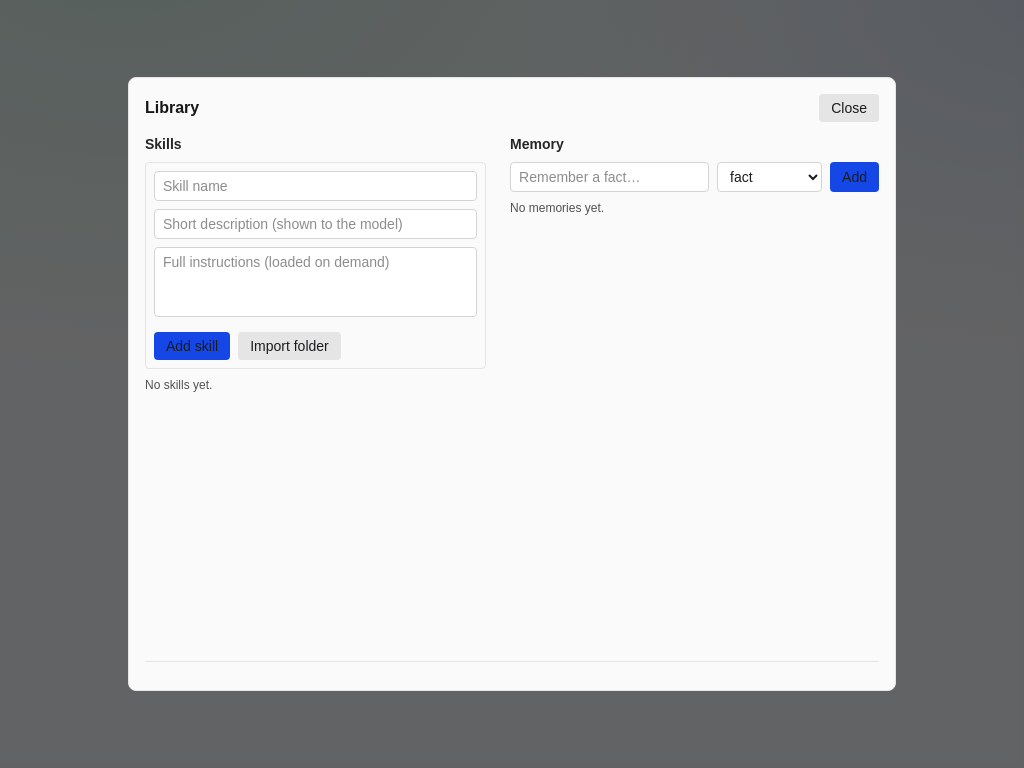
Test: LibraryPanel — Memory › adds a memory with the selected category and refreshes
Expected: the text "No memories yet." is shown, [510,201,604,215]
Type "drink water" into the field with placeholder "Remember a fact…" at point(610, 177), box [510,162,709,192]
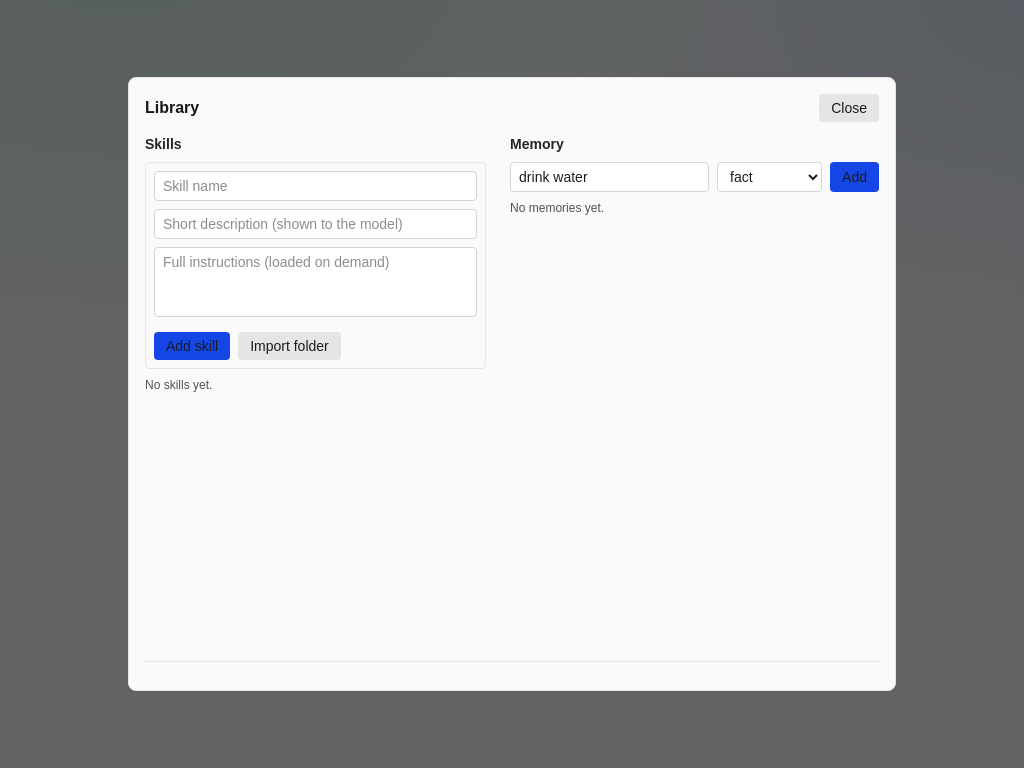
Click the button "Add" at point(855, 177), box [830,162,879,192]
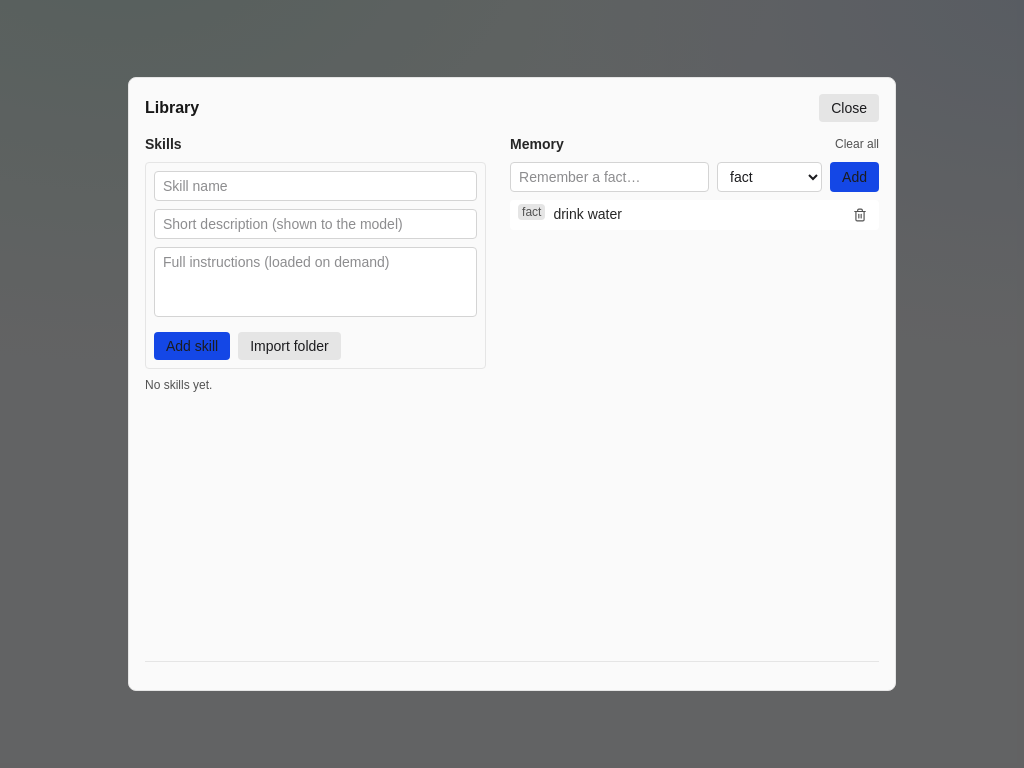
Result: the text "drink water" is shown at [553,206,622,222]
